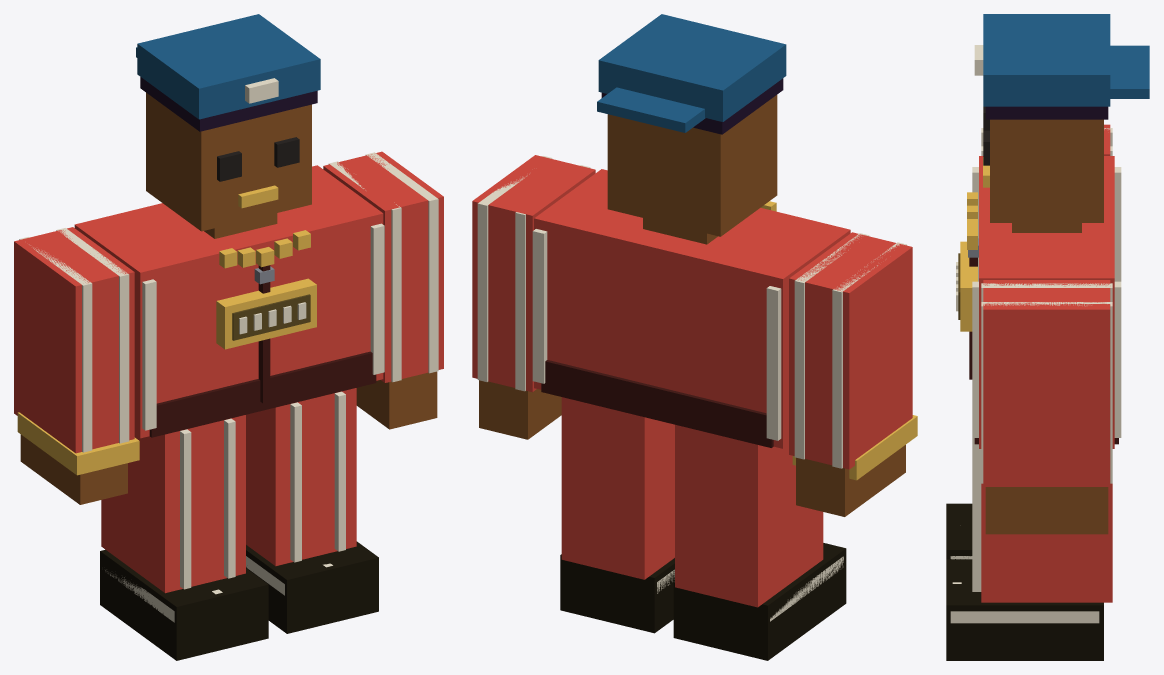
File: archetypes__rapper.glb
3 renders of one model, left to right at view 1: azimuth 30°, elevation 25°; view 2: azimuth 150°, elevation 25°; view 3: azimuth 270°, elevation 25°, orthographic. The views are drawn at different scales.
Parts seen in each view (by area): view 1: archetypes__rapper, rig_legL, rig_armL, rig_legR, rig_armR; view 2: archetypes__rapper, rig_armL, rig_legL, rig_legR, rig_armR; view 3: archetypes__rapper, rig_armR, rig_legR, rig_legL, rig_armL.
Boxes of the visible parts, <box> form: archetypes__rapper: <box>74,14,384,438</box>; rig_legL: <box>100,415,268,660</box>; rig_armL: <box>14,227,139,504</box>; rig_legR: <box>246,388,378,633</box>; rig_armR: <box>323,151,443,429</box>; archetypes__rapper: <box>532,14,850,448</box>; rig_armL: <box>789,232,917,516</box>; rig_legL: <box>673,424,846,660</box>; rig_legR: <box>560,397,674,633</box>; rig_armR: <box>472,155,595,439</box>; archetypes__rapper: <box>956,14,1149,448</box>; rig_armR: <box>981,280,1112,534</box>; rig_legR: <box>946,438,1112,660</box>; rig_legL: <box>946,503,972,559</box>; rig_armL: <box>981,124,1112,155</box>.
Bounding box in the file's own units: 2.01 × 2.85 × 0.93.
